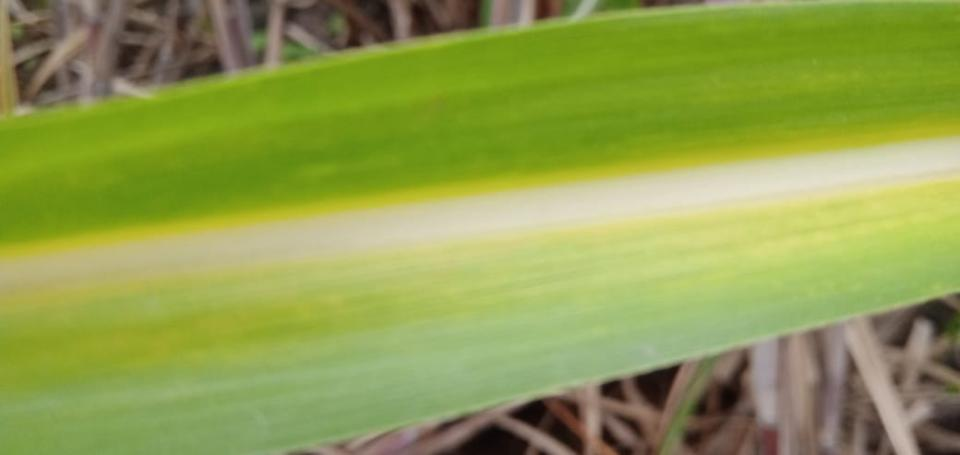Yellow: (1, 125, 959, 263)
